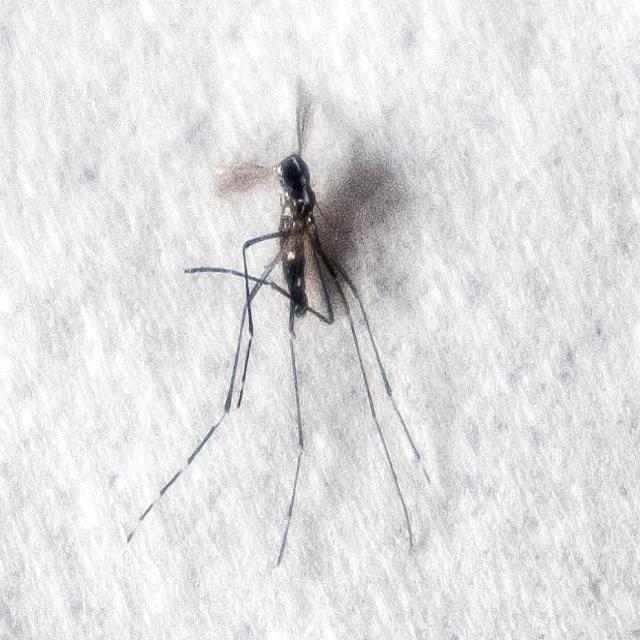albopictus: (143, 112, 428, 576)
